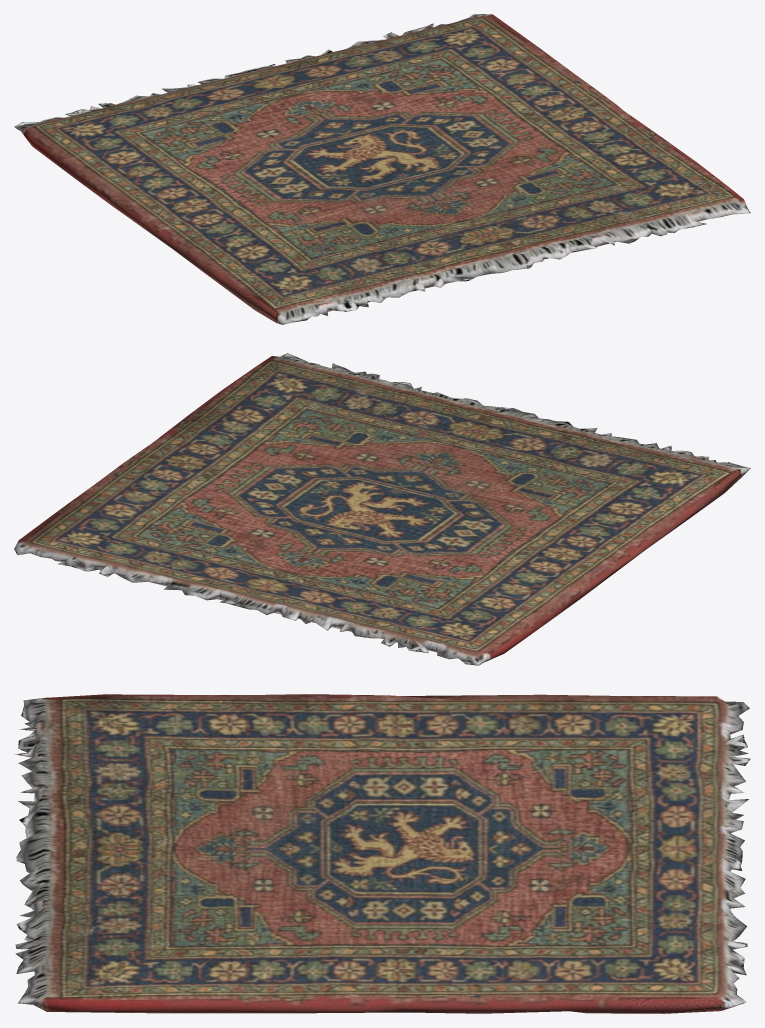
The model's file is Meshy_AI_Lion_s_Emblem_Rug_0221051954_texture.glb.
3 views of the same model, one above another, from view 1: azimuth 30°, elevation 25°; view 2: azimuth 150°, elevation 25°; view 3: azimuth 270°, elevation 25° (orthographic). The views are drawn at different scales.
Visible parts, largest first — view 1: Mesh_0; view 2: Mesh_0; view 3: Mesh_0.
Boxes of the visible parts, box(x1,y1,x2,y2) form: Mesh_0: box(14, 14, 750, 324); Mesh_0: box(14, 353, 750, 665); Mesh_0: box(14, 694, 750, 1013).
Bounding box in the file's own units: 1.9 × 0.0387 × 1.91.
Materials: 1 (1 with a texture image).
